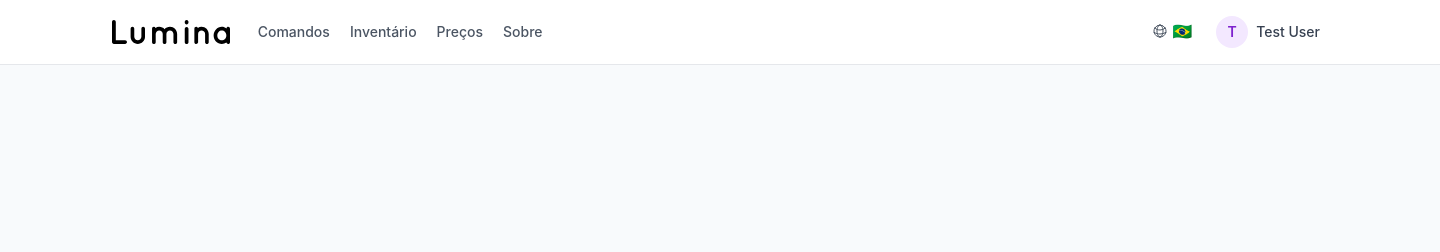
it: member menu exposes account settings without administrator actions
Click the button with aria-label "Conta:".
click(1270, 32)  # box [1212, 12, 1328, 52]
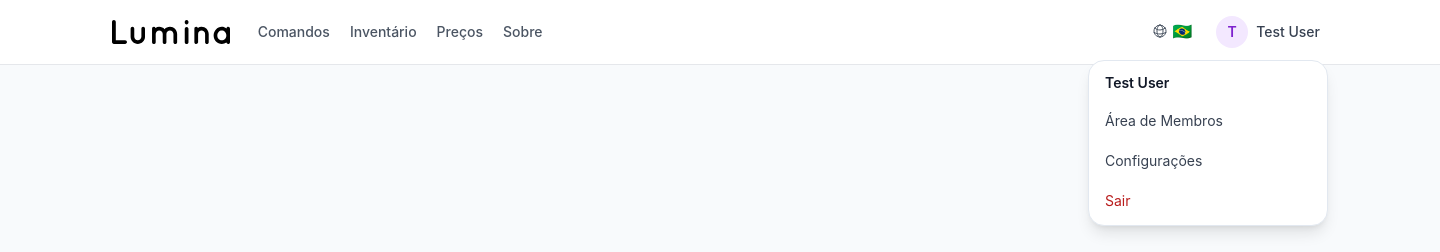
Expected: the menu item "Sair" is shown, [1093, 181, 1323, 221]
